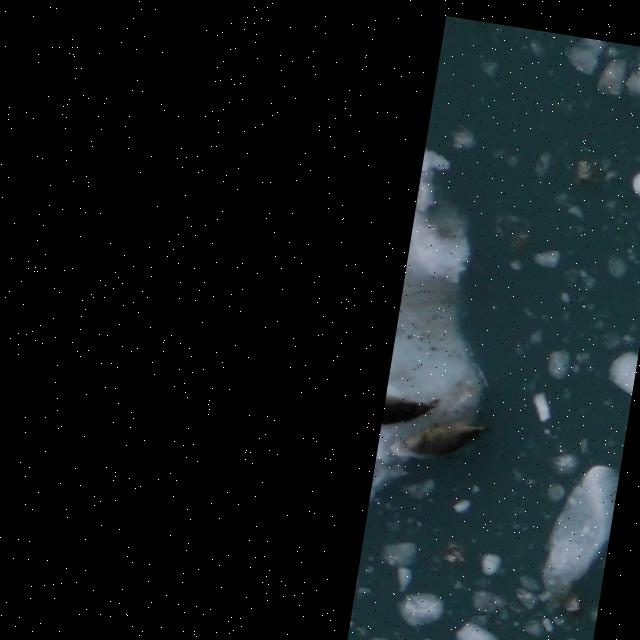seal: (398, 407, 496, 467), (382, 388, 445, 436)
